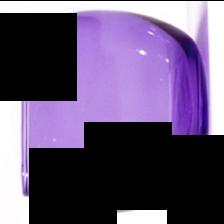purple: (21, 9, 203, 212)
